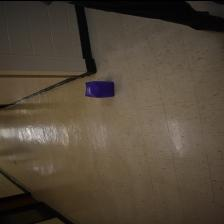cube: (84, 79, 115, 98)
